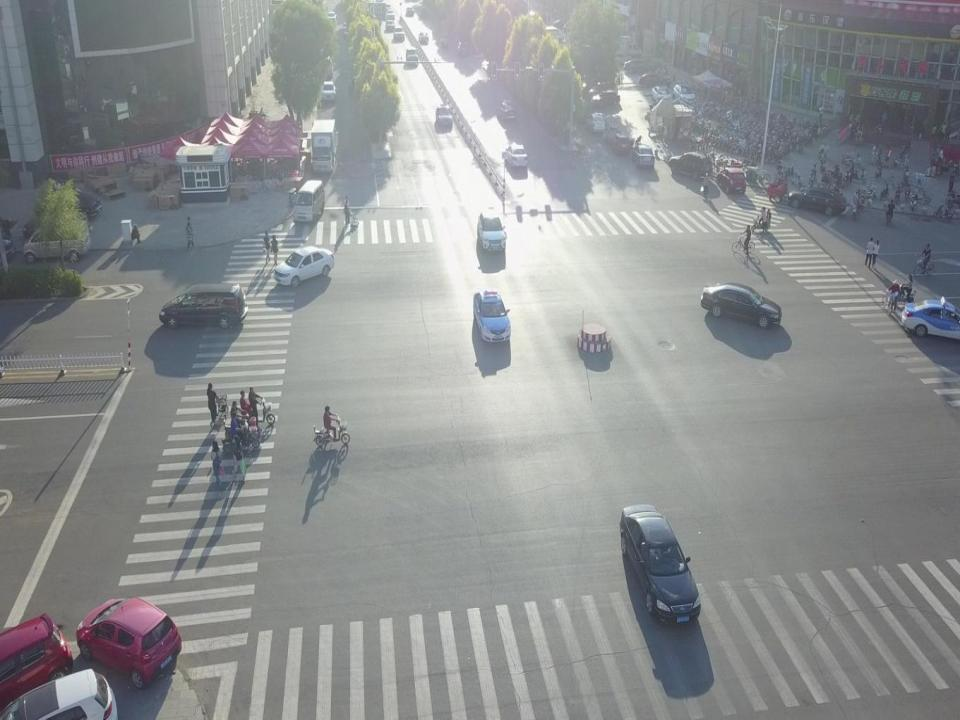car: (74, 594, 182, 691), (619, 505, 702, 623), (0, 607, 77, 716), (0, 665, 119, 719), (700, 282, 782, 328), (900, 296, 960, 342), (274, 245, 334, 290), (33, 188, 103, 220), (473, 290, 511, 342), (787, 186, 847, 216), (668, 151, 712, 179), (477, 210, 506, 252), (715, 167, 746, 193), (638, 70, 671, 88), (631, 144, 654, 168), (505, 143, 528, 167), (623, 57, 655, 74), (672, 83, 695, 106), (496, 99, 519, 120), (584, 113, 606, 134), (611, 134, 631, 157), (651, 84, 672, 105), (436, 104, 452, 127), (321, 81, 337, 101), (406, 46, 418, 65), (456, 42, 469, 58), (393, 26, 405, 40), (385, 19, 395, 31), (386, 8, 395, 20), (418, 32, 428, 41), (406, 6, 414, 16)
truck: (310, 119, 336, 172), (606, 34, 643, 61)
van: (156, 282, 248, 330), (21, 212, 93, 262), (294, 179, 325, 225), (318, 57, 334, 79)
